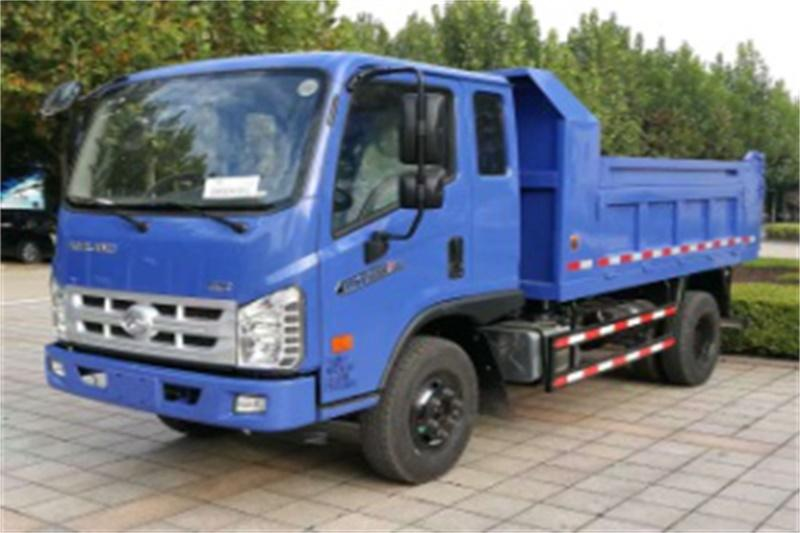truck: (33, 20, 770, 493)
